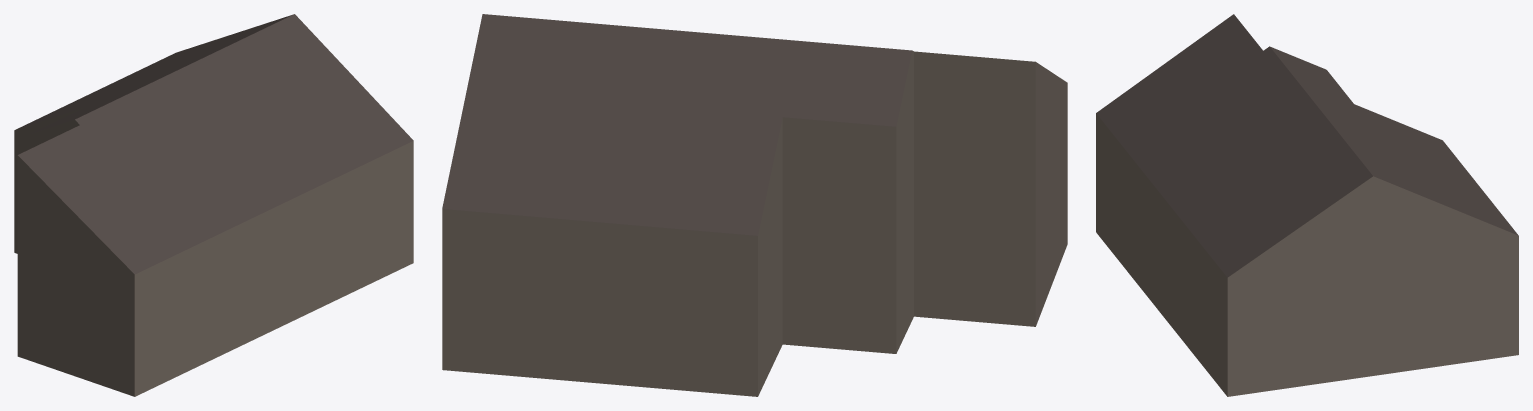
3 views of the same model, side by side, from view 1: azimuth 30°, elevation 25°; view 2: azimuth 150°, elevation 25°; view 3: azimuth 270°, elevation 25° (orthographic). The views are drawn at different scales.
Parts seen in each view (by area): view 1: HP-w1376988799; view 2: HP-w1376988799; view 3: HP-w1376988799.
Part boxes in pixels (box(x1,y1,x2,y2)): HP-w1376988799: box(14, 14, 413, 396); HP-w1376988799: box(442, 14, 1067, 396); HP-w1376988799: box(1096, 14, 1518, 396).
Bounding box in the file's own units: 20.16 × 10.06 × 19.29.
